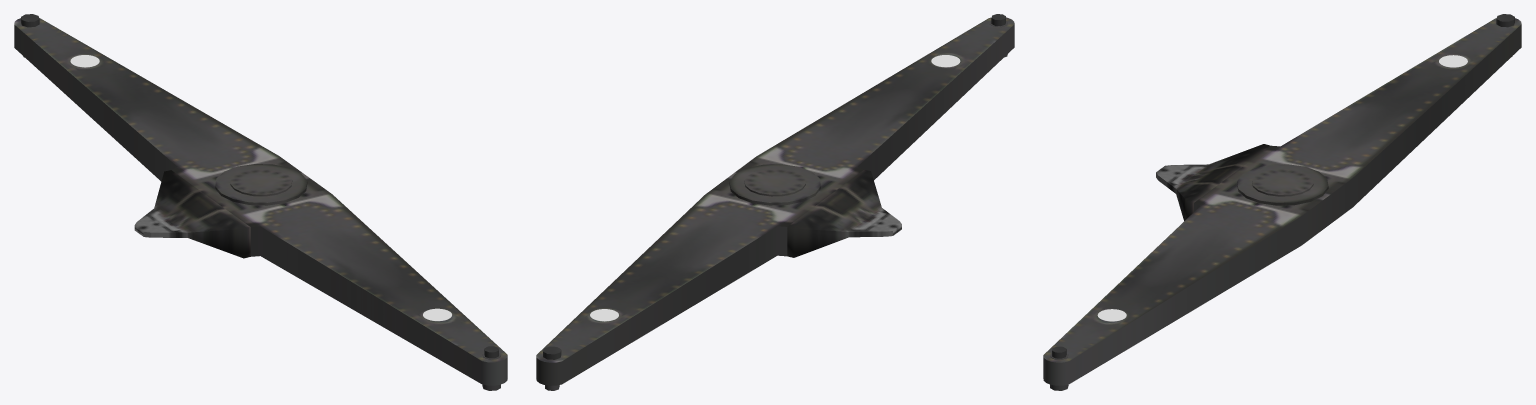
The model's file is differential_link.dae.
3 views of the same model, side by side, from view 1: azimuth 30°, elevation 25°; view 2: azimuth 150°, elevation 25°; view 3: azimuth 330°, elevation 25° (orthographic).
Visible parts, largest first — view 1: differential_link; view 2: differential_link; view 3: differential_link.
Boxes of the visible parts, x1,y1,x2,y2 form: differential_link: (14,14,507,390); differential_link: (536,14,1014,390); differential_link: (1043,14,1521,390).
Bounding box in the file's own units: 0.2711 × 1.32 × 0.0617.
Materials: 2 (1 with a texture image).
